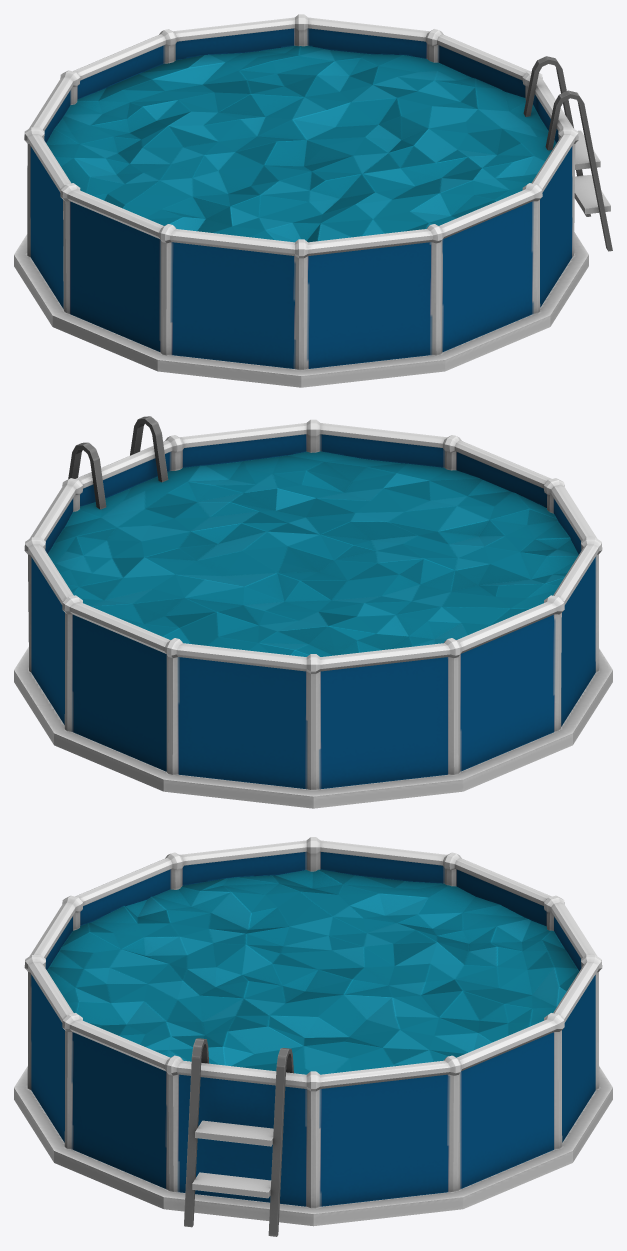
File: 3c0970b5-c24c-4b7a-b074-fef196fb8213.glb
The picture shows the model from 3 angles, top to bottom: view 1: azimuth 30°, elevation 25°; view 2: azimuth 150°, elevation 25°; view 3: azimuth 270°, elevation 25°; orthographic projection. The views are drawn at different scales.
Parts seen in each view (by area): view 1: AboveGroundSwimingPool_mesh; view 2: AboveGroundSwimingPool_mesh; view 3: AboveGroundSwimingPool_mesh.
Part boxes in pixels (<box>): AboveGroundSwimingPool_mesh: <box>14,14,612,387</box>; AboveGroundSwimingPool_mesh: <box>14,416,612,808</box>; AboveGroundSwimingPool_mesh: <box>14,837,612,1236</box>.
Bounding box in the file's own units: 17.16 × 5.11 × 16.46.
1 material, 1 textured.
